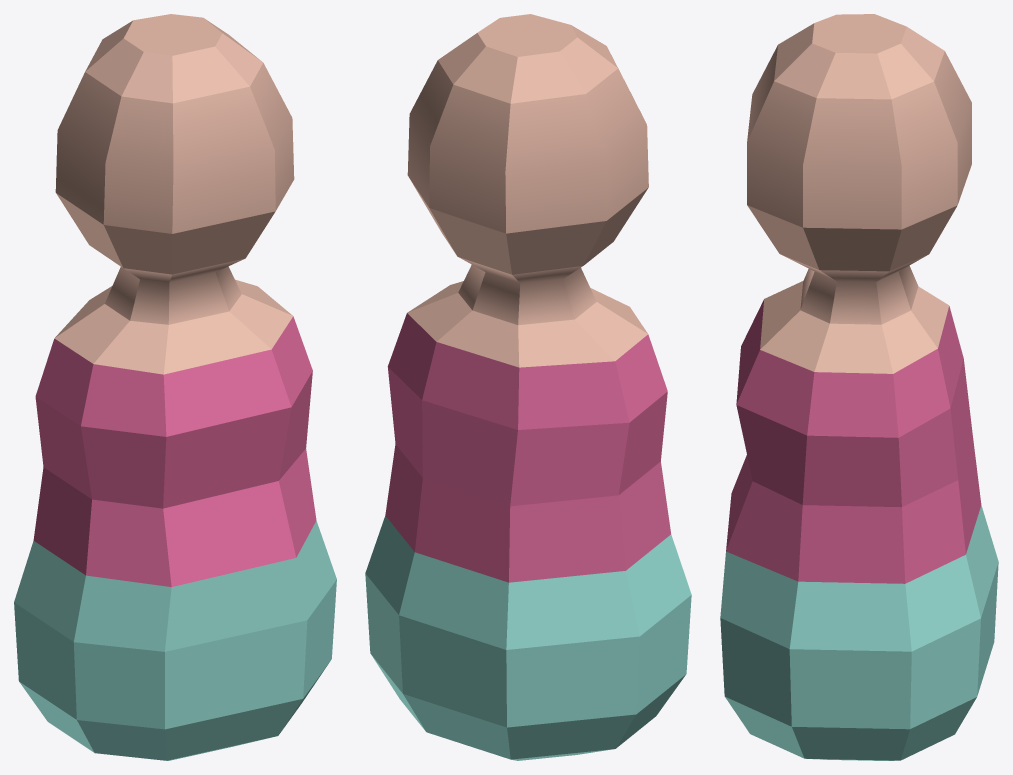
File: player_bod.fbx
The picture shows the model from 3 angles, left to right: view 1: azimuth 30°, elevation 25°; view 2: azimuth 150°, elevation 25°; view 3: azimuth 270°, elevation 25°; orthographic projection.
Visible parts, largest first — view 1: pPlane1; view 2: pPlane1; view 3: pPlane1.
Part boxes in pixels (<box>): pPlane1: <box>14,14,336,760</box>; pPlane1: <box>365,14,691,760</box>; pPlane1: <box>720,14,998,760</box>.
Size of the model in its own units: 2.02 by 4.97 by 1.8.
